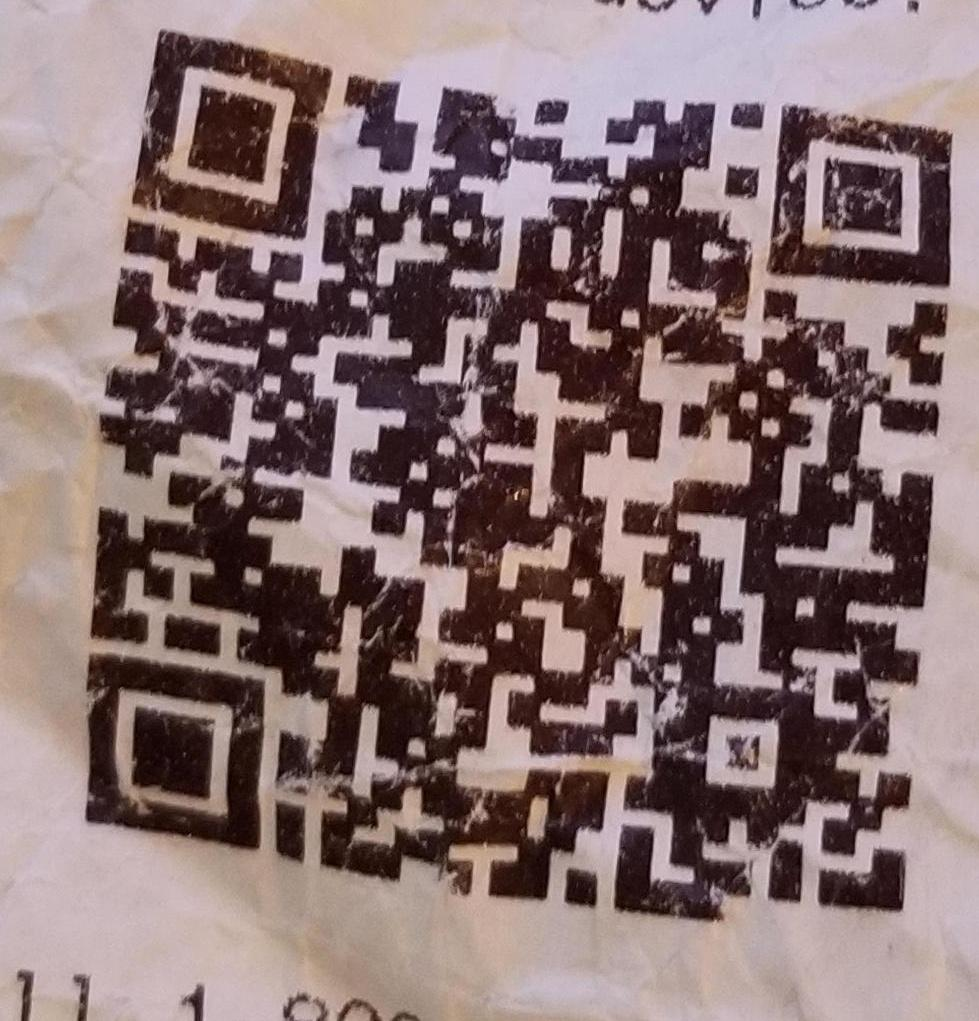qrcode: (83, 25, 956, 928)
